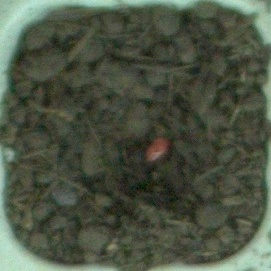chilli seed: (143, 135, 173, 164)
